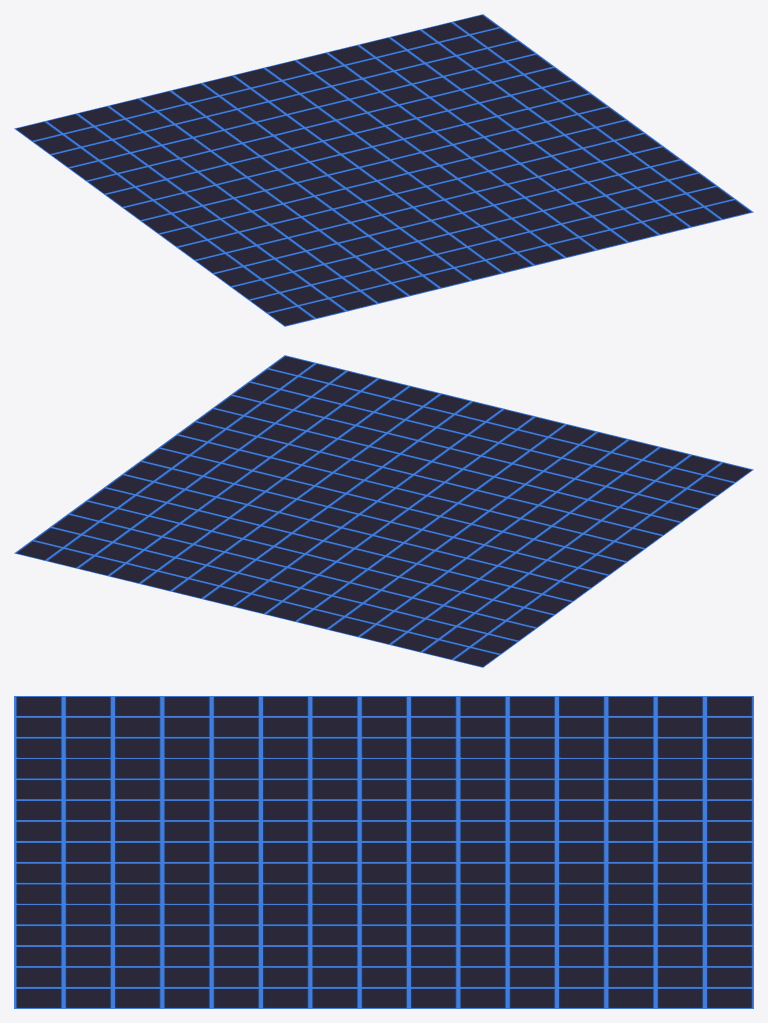
3 views of the same model, one above another, from view 1: azimuth 30°, elevation 25°; view 2: azimuth 150°, elevation 25°; view 3: azimuth 270°, elevation 25° (orthographic). The views are drawn at different scales.
Visible parts, largest first — view 1: Plane; view 2: Plane; view 3: Plane.
Part boxes in pixels (x1,y1,x2,y2): Plane: (14, 14, 753, 326); Plane: (14, 355, 753, 667); Plane: (14, 696, 753, 1008).
Size of the model in its own units: 60 by 0 by 60.
225 materials, 225 textured.
